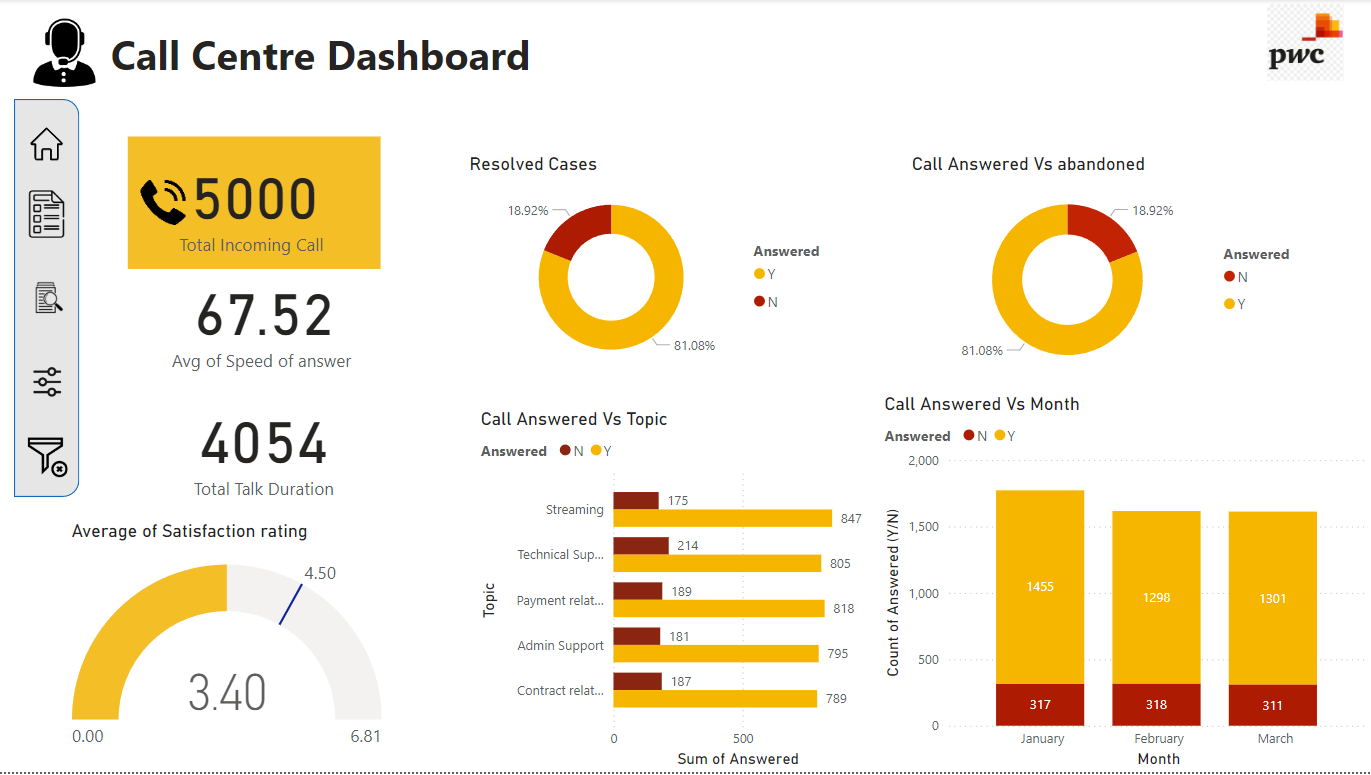

Layout of this report page (visuals, bound fields, positions):
{"tool":"powerbi","page":{"name":"Page 1","canvas":[1280,720],"ordinal":0},"visuals":[{"type":"donutChart","fields":{"Y":["CountNonNull(CallData.Answered (Y/N))"],"Series":["CallData.Answered (Y/N)"]},"box":[871.2,142.5,356.2,217.5],"z":0},{"type":"donutChart","fields":{"Category":["CallData.Answered (Y/N)"],"Y":["CountNonNull(CallData.Resolved)"]},"box":[416.2,142.5,385,213.8],"z":1000},{"type":"gauge","fields":{"Y":["Avg(CallData.Satisfaction rating)"]},"box":[53.8,476.2,316.2,243.8],"z":2000},{"type":"card","fields":{"Values":["Avg(CallData.Speed of answer in seconds)"]},"box":[153.8,227.5,186.2,138.8],"z":3000},{"type":"columnChart","fields":{"Category":["CallData.Month"],"Y":["CountNonNull(CallData.Answered (Y/N))"],"Series":["CallData.Answered (Y/N)"]},"box":[818.8,366.2,460,353.8],"z":4000},{"type":"clusteredBarChart","title":"Count of Answered Vs  Topic ","fields":{"Category":["CallData.Topic"],"Y":["CountNonNull(CallData.Answered (Y/N))"],"Series":["CallData.Answered (Y/N)"]},"box":[398.8,366.2,420,353.8],"z":5000},{"type":"card","fields":{"Values":["CountNonNull(CallData.Call Id.1)"]},"box":[153.8,127.5,201.2,123.8],"z":6000},{"type":"card","fields":{"Values":["CountNonNull(CallData.AvgTalkDuration)"]},"box":[153.8,360,186.2,112.5],"z":7000},{"type":"textbox","box":[398.8,110,241.2,42.5],"z":8000},{"type":"textbox","box":[0,21.2,608.8,60],"z":9000},{"type":"textbox","box":[842.5,96.2,295,46.2],"z":10000}]}

Visuals, with their boxes on the page's 1280x720 design canvas (x1, y1, x2, y2). These are canvas units, not pixel positions in the 1371x775 screenshot, which may show the page scaled, cropped or inside an application window:
donutChart - CountNonNull(CallData.Answered (Y/N)) x CallData.Answered (Y/N): 871:142:1227:360
donutChart - CallData.Answered (Y/N) x CountNonNull(CallData.Resolved): 416:142:801:356
gauge - Avg(CallData.Satisfaction rating): 54:476:370:720
card - Avg(CallData.Speed of answer in seconds): 154:228:340:366
columnChart - CallData.Month x CountNonNull(CallData.Answered (Y/N)): 819:366:1279:720
"Count of Answered Vs  Topic " clusteredBarChart: 399:366:819:720
card - CountNonNull(CallData.Call Id.1): 154:128:355:251
card - CountNonNull(CallData.AvgTalkDuration): 154:360:340:472
textbox: 399:110:640:152
textbox: 0:21:609:81
textbox: 842:96:1138:142
